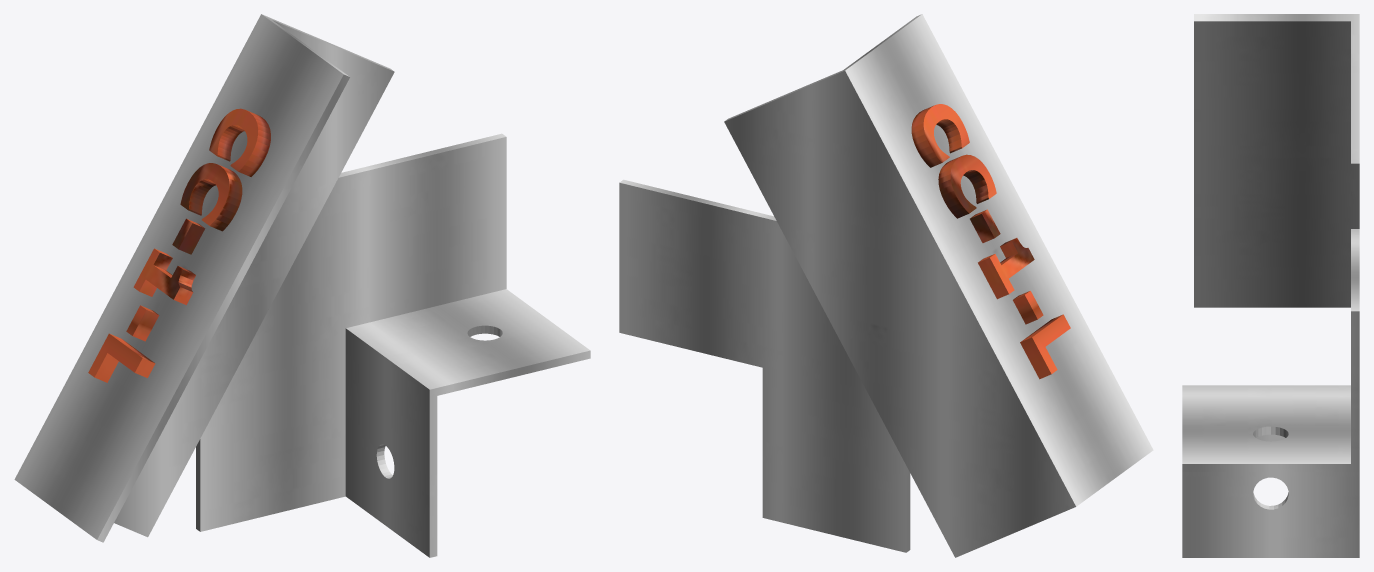
3 renders of one model, left to right at view 1: azimuth 30°, elevation 25°; view 2: azimuth 150°, elevation 25°; view 3: azimuth 270°, elevation 25°, orthographic. The views are drawn at different scales.
Parts seen in each view (by area): view 1: _C-Konekting YY (Loose Mesh), G-Object, C-CC-1-L; view 2: G-Object, _C-Konekting YY (Loose Mesh), C-CC-1-L; view 3: G-Object, _C-Konekting YY (Loose Mesh).
Part boxes in pixels (box(x1,y1,x2,y2)): _C-Konekting YY (Loose Mesh): box(196, 133, 590, 557); G-Object: box(14, 14, 394, 542); C-CC-1-L: box(88, 108, 270, 382); G-Object: box(724, 14, 1153, 557); _C-Konekting YY (Loose Mesh): box(619, 179, 910, 552); C-CC-1-L: box(911, 104, 1070, 379); G-Object: box(1194, 14, 1359, 307); _C-Konekting YY (Loose Mesh): box(1182, 229, 1359, 557).
Size of the model in its own units: 0.1593 by 0.1557 by 0.05.
Materials: 2 (2 with a texture image).
